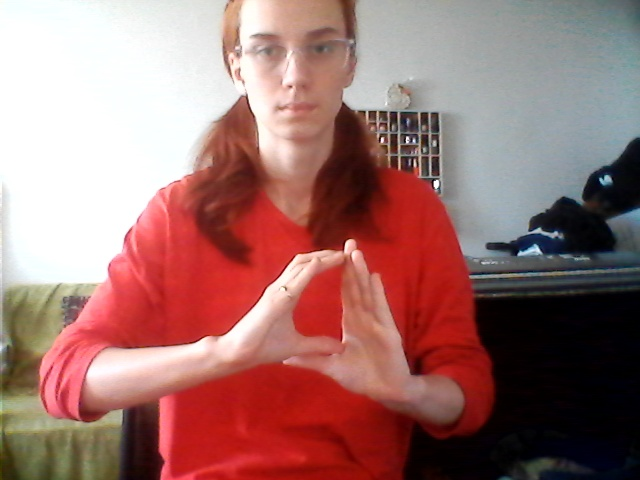d: (258, 234, 413, 407)
